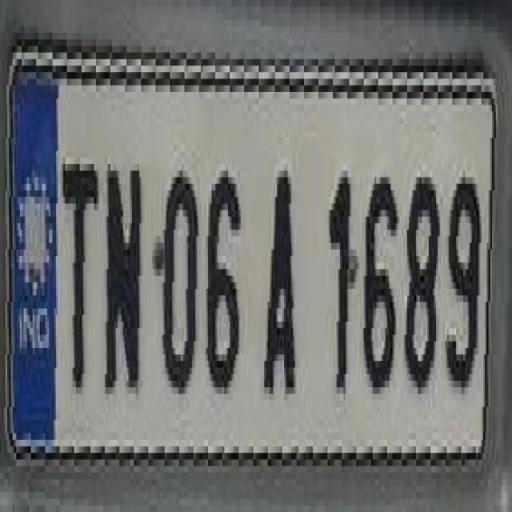number plate: (4, 7, 481, 492)
